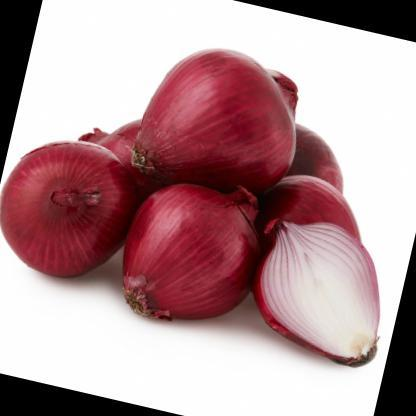onion: (122, 20, 328, 216)
